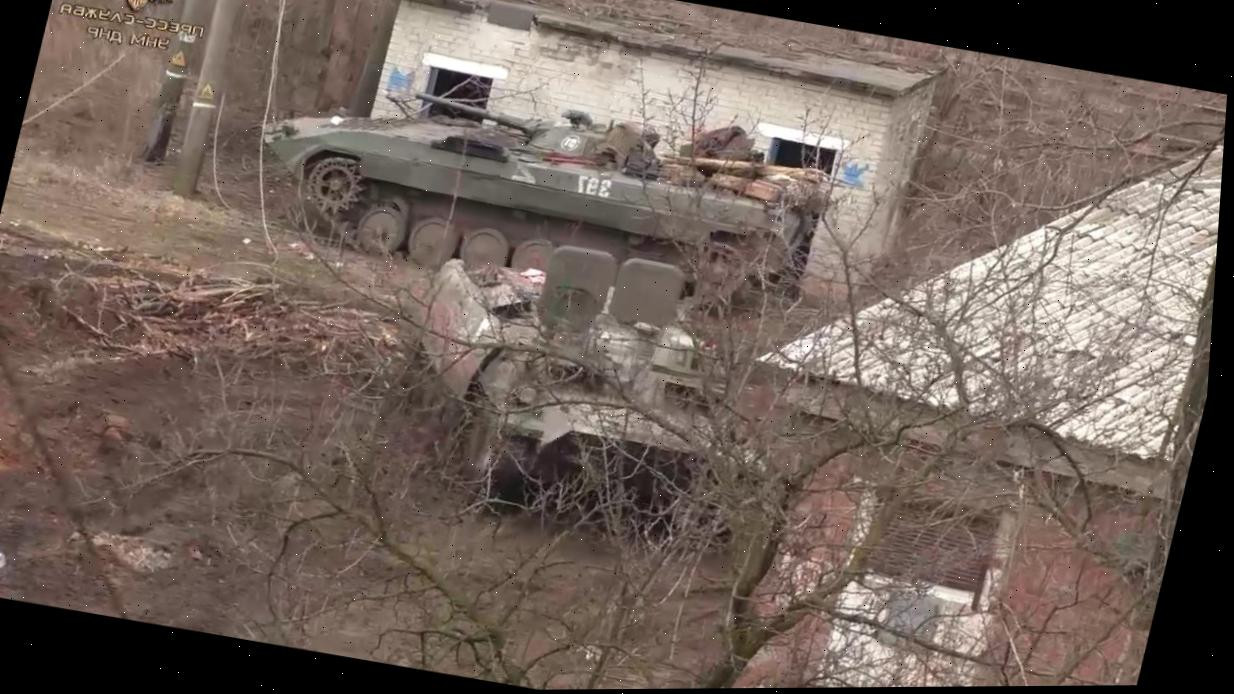tank: (221, 52, 842, 339), (376, 220, 805, 541)
